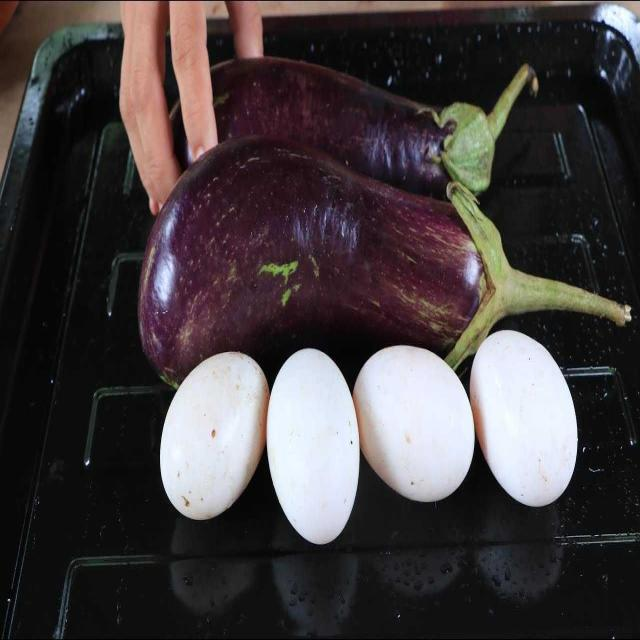Eggplant-r1Ob: (139, 138, 630, 386), (211, 60, 539, 197)
